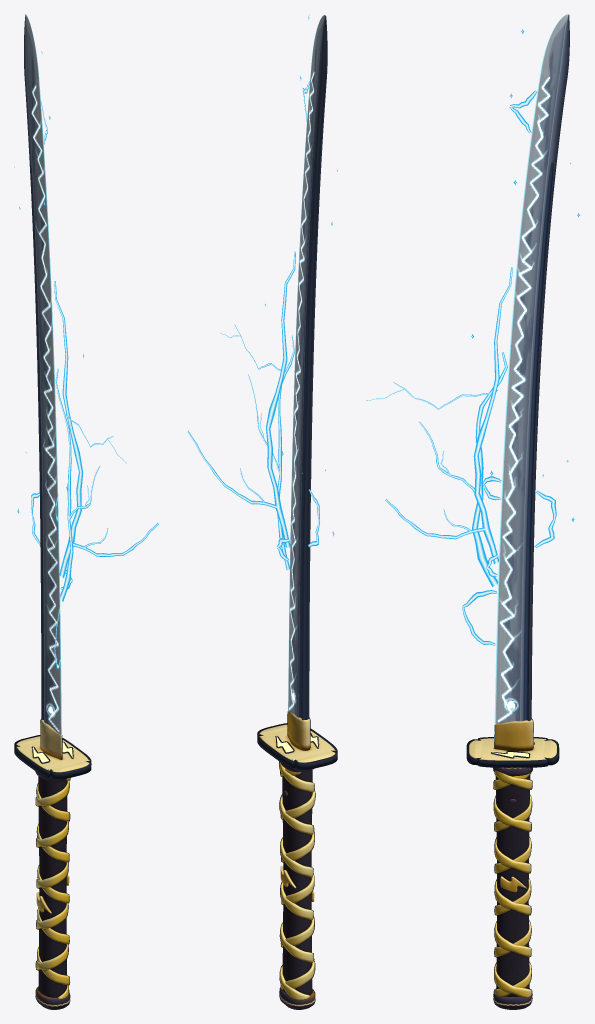
Rendered from lightning_katana.glb.
The picture shows the model from 3 angles, left to right: view 1: azimuth 30°, elevation 25°; view 2: azimuth 210°, elevation 25°; view 3: azimuth 270°, elevation 25°; orthographic projection. The views are drawn at different scales.
Visible parts, largest first — view 1: Katana_Blade, Katana_Hilt, FX_Lightning_F6, Katana_InkOutline; view 2: Katana_Blade, Katana_Hilt, FX_Lightning_F6, Katana_InkOutline; view 3: Katana_Blade, Katana_Hilt, FX_Lightning_F6, Katana_InkOutline.
Boxes of the visible parts, <box> form: Katana_Blade: <box>24,14,61,747</box>; Katana_Hilt: <box>14,719,91,1009</box>; FX_Lightning_F6: <box>14,51,158,669</box>; Katana_InkOutline: <box>14,719,91,1009</box>; Katana_Blade: <box>288,15,327,720</box>; Katana_Hilt: <box>257,711,337,1009</box>; FX_Lightning_F6: <box>187,15,337,630</box>; Katana_InkOutline: <box>257,711,337,1009</box>; Katana_Blade: <box>494,14,569,741</box>; Katana_Hilt: <box>467,719,558,1009</box>; FX_Lightning_F6: <box>366,29,580,645</box>; Katana_InkOutline: <box>466,718,559,1009</box>.
Size of what is drawn, in the model's own units: 0.074 by 1.01 by 0.1971.
6 materials, 2 textured.
